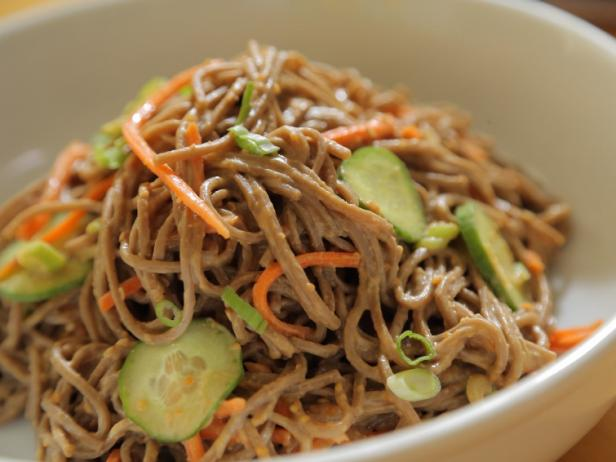Soba: (7, 45, 583, 449)
